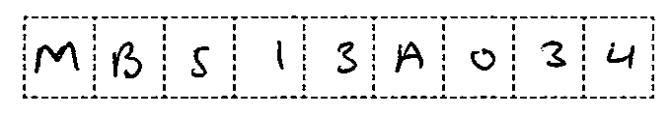0: (464, 43, 501, 78)
1: (262, 36, 296, 72)
3: (532, 34, 571, 75), (326, 36, 363, 78)
4: (599, 34, 640, 74)
5: (178, 41, 217, 84)
A: (387, 34, 431, 79)
B: (107, 39, 148, 85)
M: (31, 37, 84, 77)
